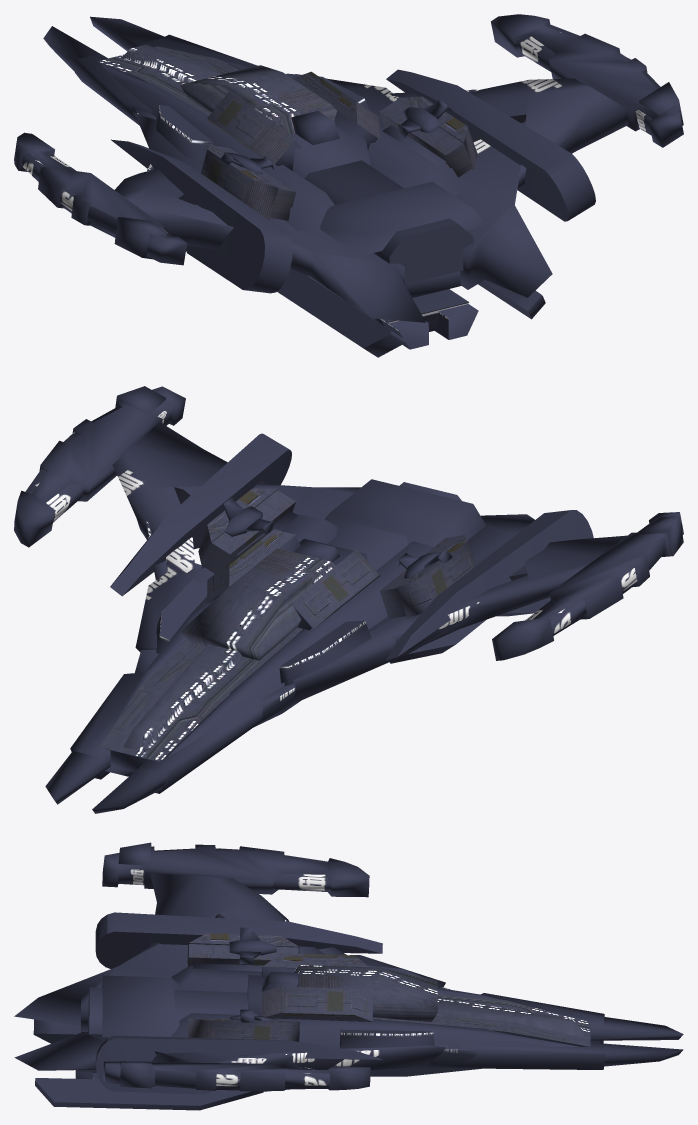
Rendered from Dom_Enslaver.fbx.
The picture shows the model from 3 angles, top to bottom: view 1: azimuth 30°, elevation 25°; view 2: azimuth 150°, elevation 25°; view 3: azimuth 270°, elevation 25°; orthographic projection. The views are drawn at different scales.
Visible parts, largest first — view 1: Dom_Enslaver; view 2: Dom_Enslaver; view 3: Dom_Enslaver.
Part boxes in pixels (x1,y1,x2,y2): Dom_Enslaver: [14, 14, 683, 357]; Dom_Enslaver: [14, 386, 683, 813]; Dom_Enslaver: [14, 842, 683, 1110].
Size of the model in its own units: 573 by 157 by 707.
Materials: 1 (1 with a texture image).
